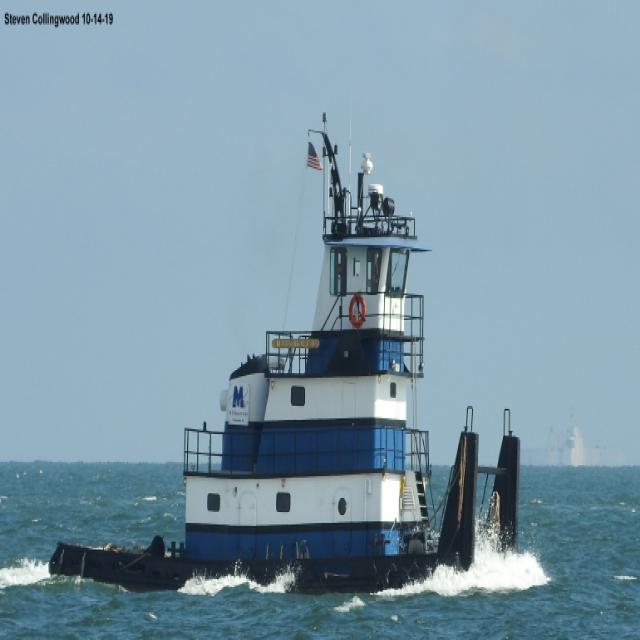tugboat: (40, 106, 527, 621)
